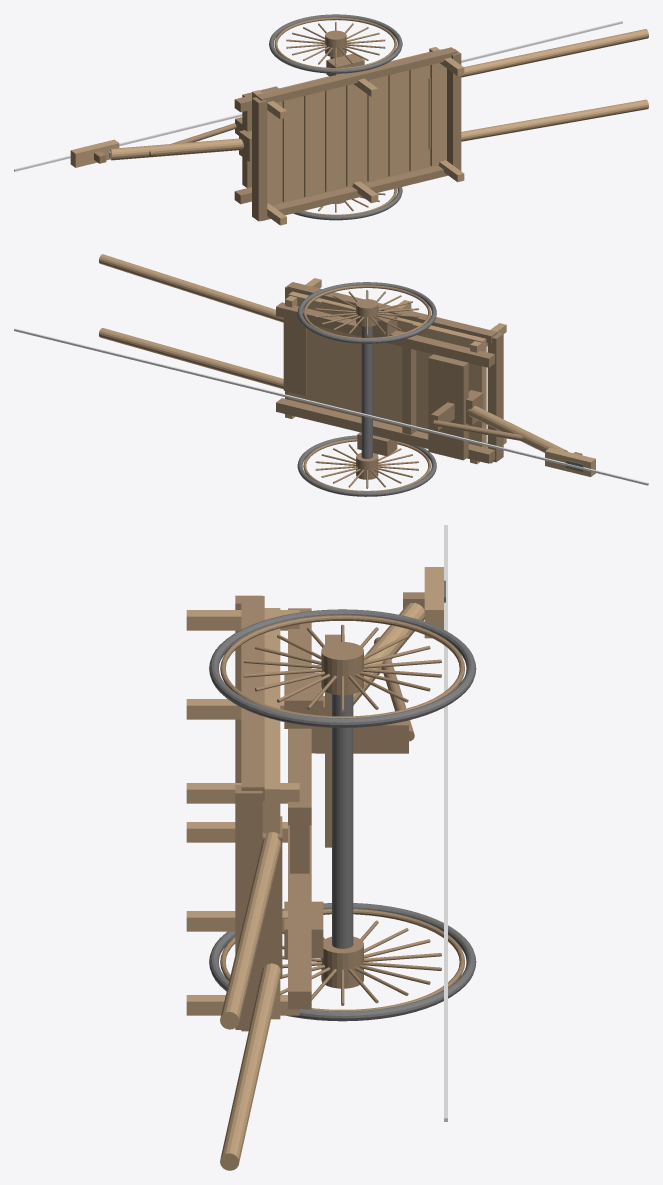
The model's file is pedal-cart.glb.
3 views of the same model, one above another, from view 1: azimuth 30°, elevation 25°; view 2: azimuth 150°, elevation 25°; view 3: azimuth 270°, elevation 25° (orthographic). The views are drawn at different scales.
Parts seen in each view (by area): view 1: bed_floor, side_rail_right, side_rail_left, handle_left, handle_right, rear_cross_rail, floor_slat_1, floor_slat_3, floor_slat_7, floor_slat_2, floor_slat_6, floor_slat_4 (+16 smaller); view 2: bed_floor, lower_rear_crossbar, stringer_left, stringer_right, ground_guide, handle_left, handle_right, handle_cross_tie, side_rail_right, wheel_right_0, rear_cross_rail, main_axle (+13 smaller); view 3: wheel_right_0, main_axle, handle_left, front_cross_rail, handle_right, side_rail_right, wheel_left_0, stringer_left, bed_floor, stringer_right, wheel_right_1, ground_guide (+17 smaller).
Boxes of the visible parts, x1,y1,x2,y2 form: bed_floor: [257, 49, 442, 205]; side_rail_right: [255, 47, 457, 102]; side_rail_left: [262, 165, 447, 220]; handle_left: [461, 99, 648, 141]; handle_right: [461, 29, 648, 77]; rear_cross_rail: [252, 97, 267, 221]; floor_slat_1: [282, 97, 299, 202]; floor_slat_3: [325, 87, 341, 191]; floor_slat_7: [409, 66, 425, 171]; floor_slat_2: [304, 92, 320, 197]; floor_slat_6: [388, 71, 404, 176]; floor_slat_4: [346, 84, 362, 186]; bed_floor: [288, 291, 486, 447]; lower_rear_crossbar: [428, 354, 468, 460]; stringer_left: [276, 398, 494, 463]; stringer_right: [276, 302, 494, 367]; ground_guide: [14, 328, 648, 485]; handle_left: [99, 328, 283, 389]; handle_right: [99, 254, 283, 322]; handle_cross_tie: [283, 318, 306, 395]; side_rail_right: [287, 282, 497, 343]; wheel_right_0: [297, 282, 436, 343]; rear_cross_rail: [487, 332, 503, 462]; main_axle: [361, 326, 372, 458]; wheel_right_0: [209, 609, 476, 727]; main_axle: [332, 694, 353, 948]; handle_left: [220, 963, 281, 1170]; front_cross_rail: [235, 785, 262, 1029]; handle_right: [220, 832, 281, 1029]; side_rail_right: [241, 596, 264, 801]; wheel_left_0: [209, 903, 476, 1021]; stringer_left: [288, 825, 311, 1009]; bed_floor: [264, 608, 280, 1019]; stringer_right: [288, 608, 311, 825]; wheel_right_1: [220, 615, 464, 718]; ground_guide: [444, 525, 447, 1121].
Size of the model in its own units: 7.2 by 1.86 by 1.49.
